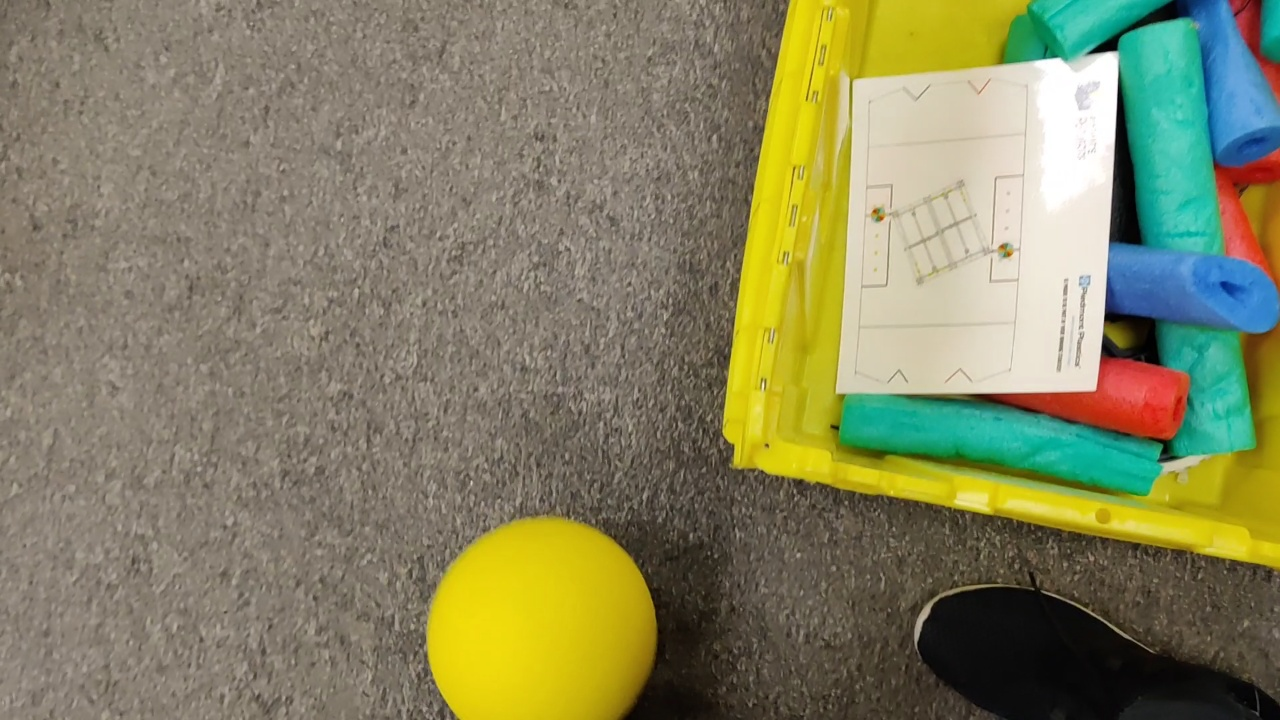Ball: (430, 521, 650, 720)
